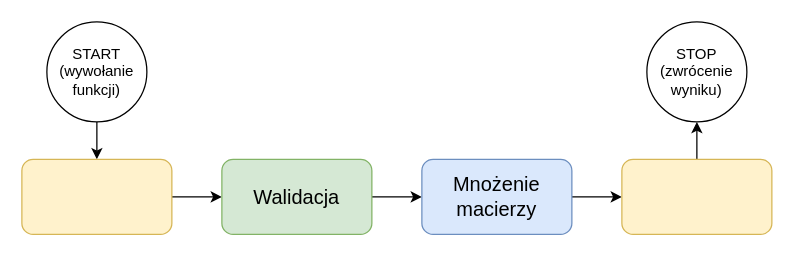
Some shapes in this 794 by 256 pixel diagram are drawn without their labels. Here are the shapes that lost their labels. From the top down, the box of each, then its label:
(21, 158, 172, 234): Deserializacja
(621, 158, 772, 234): Serializacja
